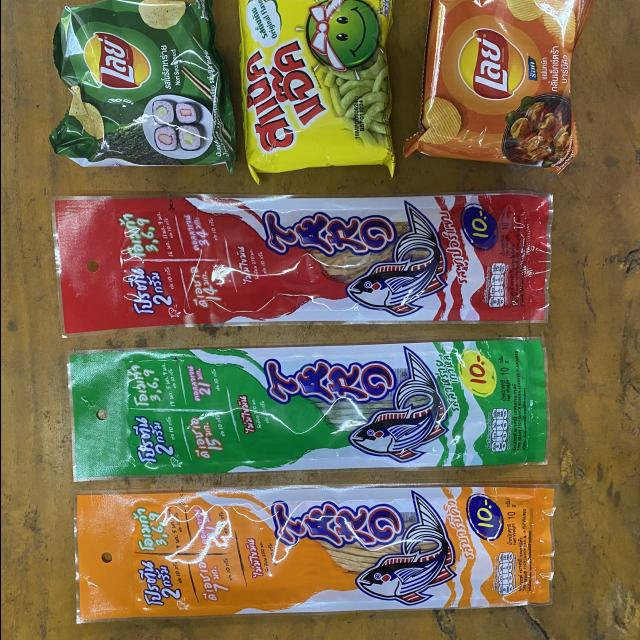plastik: (52, 193, 551, 336), (67, 339, 547, 481), (75, 486, 553, 623), (403, 0, 594, 174), (48, 0, 234, 172), (238, 0, 394, 183)
